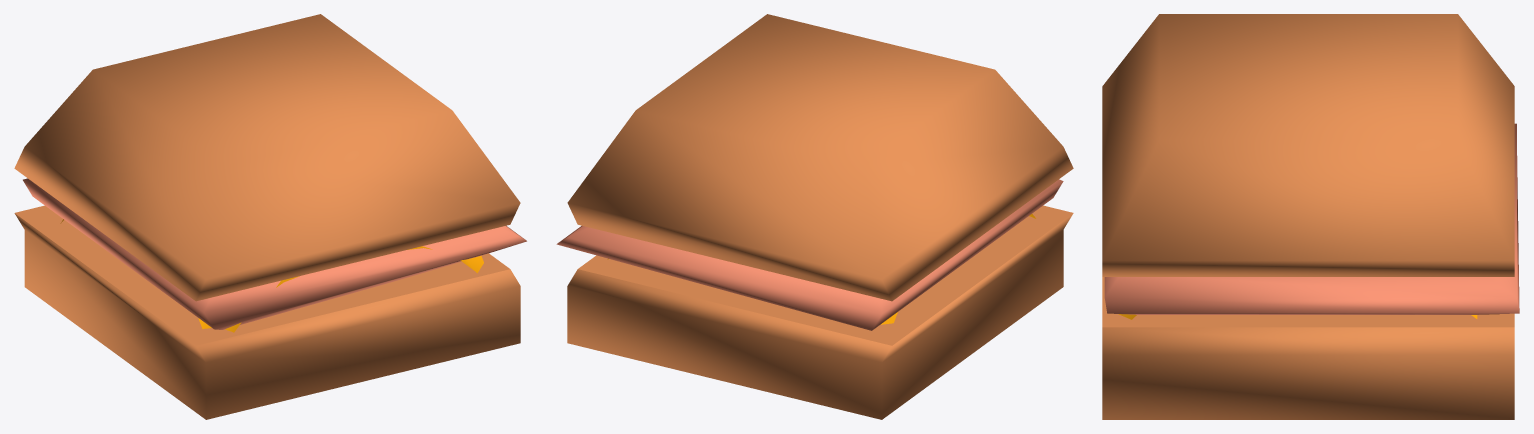
File: hamburger.glb
3 views of the same model, side by side, from view 1: azimuth 30°, elevation 25°; view 2: azimuth 150°, elevation 25°; view 3: azimuth 270°, elevation 25° (orthographic). The views are drawn at different scales.
Parts seen in each view (by area): view 1: Cube.002, Cube.001, Cube, Plane; view 2: Cube.002, Cube.001, Cube; view 3: Cube.002, Cube.001, Cube.
Boxes of the visible parts, left/top/right/bottom form: Cube.002: left=14, top=14, right=520, bottom=301; Cube.001: left=14, top=205, right=520, bottom=419; Cube: left=23, top=178, right=526, bottom=329; Plane: left=60, top=219, right=483, bottom=332; Cube.002: left=567, top=14, right=1073, bottom=301; Cube.001: left=567, top=205, right=1073, bottom=419; Cube: left=556, top=179, right=1063, bottom=330; Cube.002: left=1102, top=14, right=1514, bottom=276; Cube.001: left=1102, top=277, right=1514, bottom=419; Cube: left=1104, top=123, right=1519, bottom=314.
Size of the model in its own units: 10.03 by 6.46 by 9.56.
